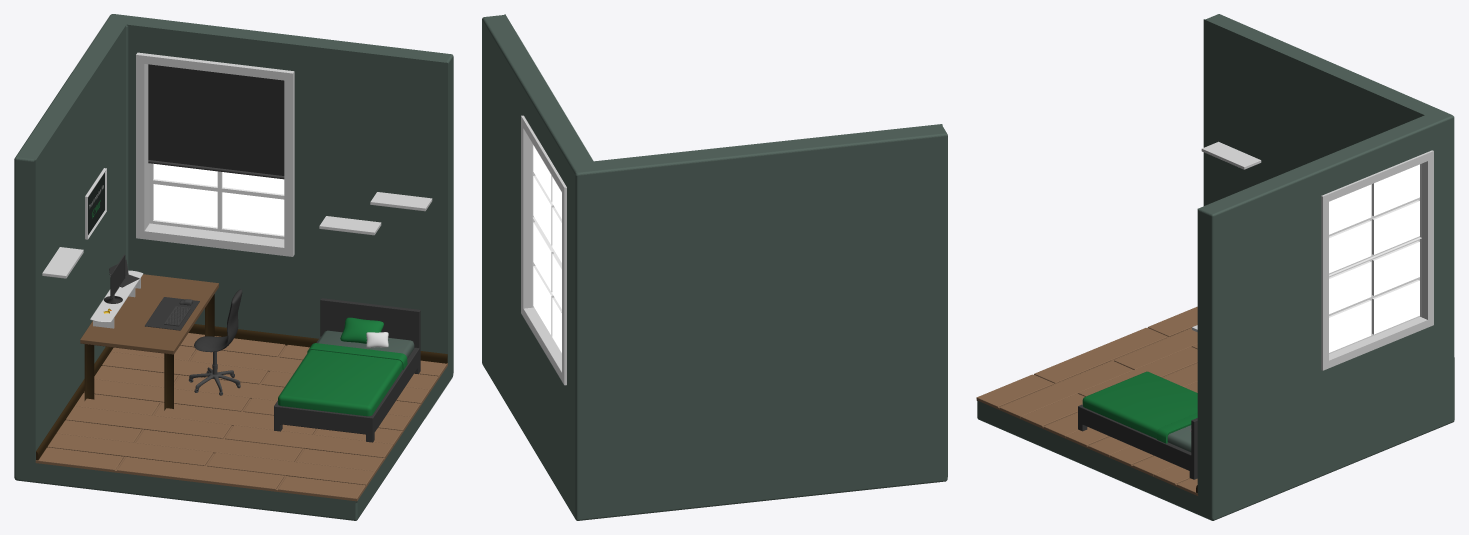
File: merged-rotated.glb
3 views of the same model, side by side, from view 1: azimuth 30°, elevation 25°; view 2: azimuth 150°, elevation 25°; view 3: azimuth 270°, elevation 25° (orthographic). The views are drawn at different scales.
Visible parts, largest first — view 1: Walls, Floor, Shade, Window Frame, lower Window, Sheets, Bed Frame, Tabletop, Baseboard, Desk Leg, Picture, Seat (+8 smaller); view 2: Walls, Window Frame, lower Window, Upper Window; view 3: Walls, Floor, lower Window, Upper Window, Window Frame, Sheets, Bed Frame, Shelf.002.
Boxes of the visible parts, <box> form: Walls: <box>14,14,453,520</box>; Floor: <box>35,333,447,501</box>; Shade: <box>148,64,284,175</box>; Window Frame: <box>136,52,294,256</box>; lower Window: <box>149,163,284,239</box>; Sheets: <box>278,343,407,416</box>; Bed Frame: <box>274,298,420,442</box>; Tabletop: <box>80,274,218,354</box>; Baseboard: <box>36,324,447,460</box>; Desk Leg: <box>84,294,214,410</box>; Picture: <box>85,168,106,239</box>; Seat: <box>194,289,242,352</box>; Walls: <box>482,14,947,520</box>; Window Frame: <box>521,115,566,385</box>; lower Window: <box>532,218,561,352</box>; Upper Window: <box>532,144,561,265</box>; Walls: <box>977,14,1454,520</box>; Floor: <box>976,306,1198,495</box>; lower Window: <box>1329,238,1421,353</box>; Upper Window: <box>1329,163,1421,275</box>; Window Frame: <box>1321,150,1433,370</box>; Sheets: <box>1082,371,1197,443</box>; Bed Frame: <box>1078,404,1197,479</box>; Shelf.002: <box>1201,141,1261,169</box>.
Bounding box in the file's own units: 6.02 × 4.27 × 6.03.
14 materials, 1 textured.
